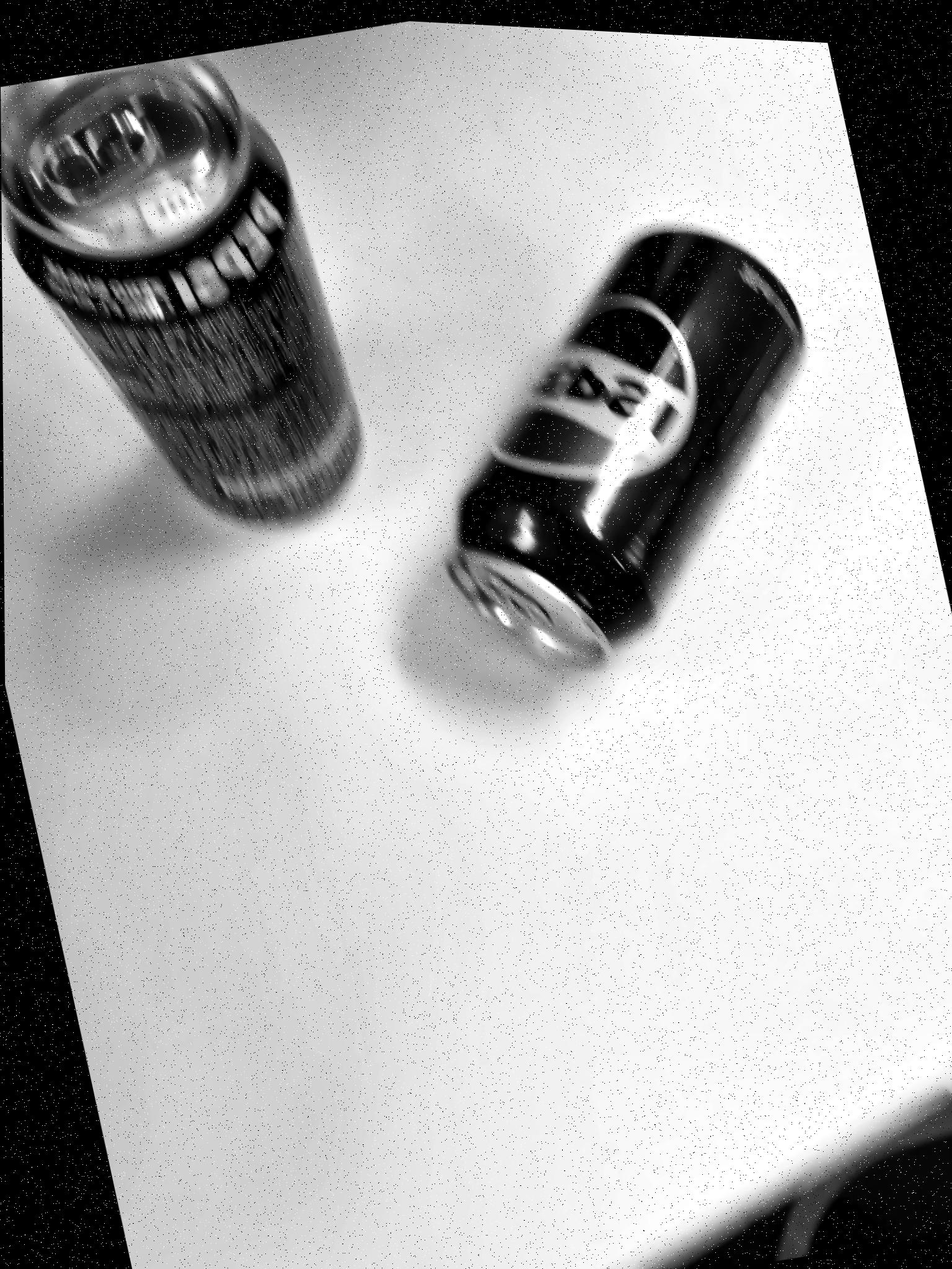can_pepsi: (456, 221, 817, 655)
can_pepsi_zero: (1, 54, 363, 526)
